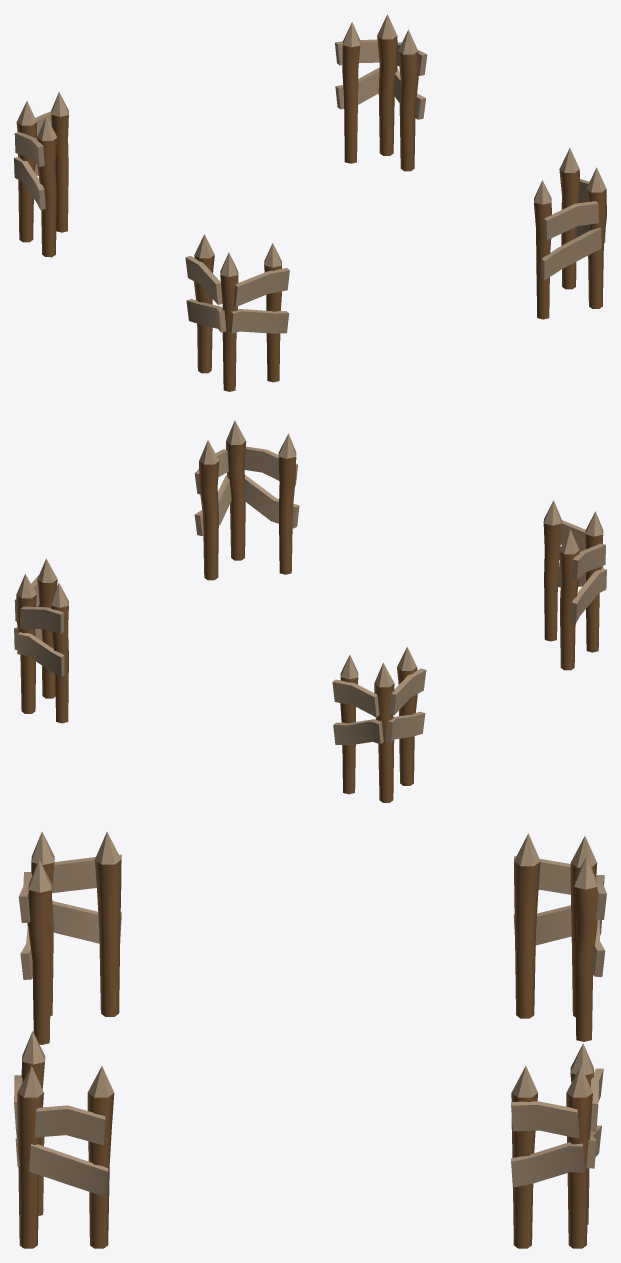
Rendered from RoadBlocker.fbx.
3 views of the same model, one above another, from view 1: azimuth 30°, elevation 25°; view 2: azimuth 150°, elevation 25°; view 3: azimuth 270°, elevation 25° (orthographic). The views are drawn at different scales.
Visible parts, largest first — view 1: road blocker; view 2: road blocker; view 3: road blocker.
Part boxes in pixels (x1=…): road blocker: x1=14, y1=14, x2=606, y2=391; road blocker: x1=14, y1=420, x2=606, y2=802; road blocker: x1=14, y1=831, x2=606, y2=1248.
Bounding box in the file's own units: 322 × 110 × 323.
